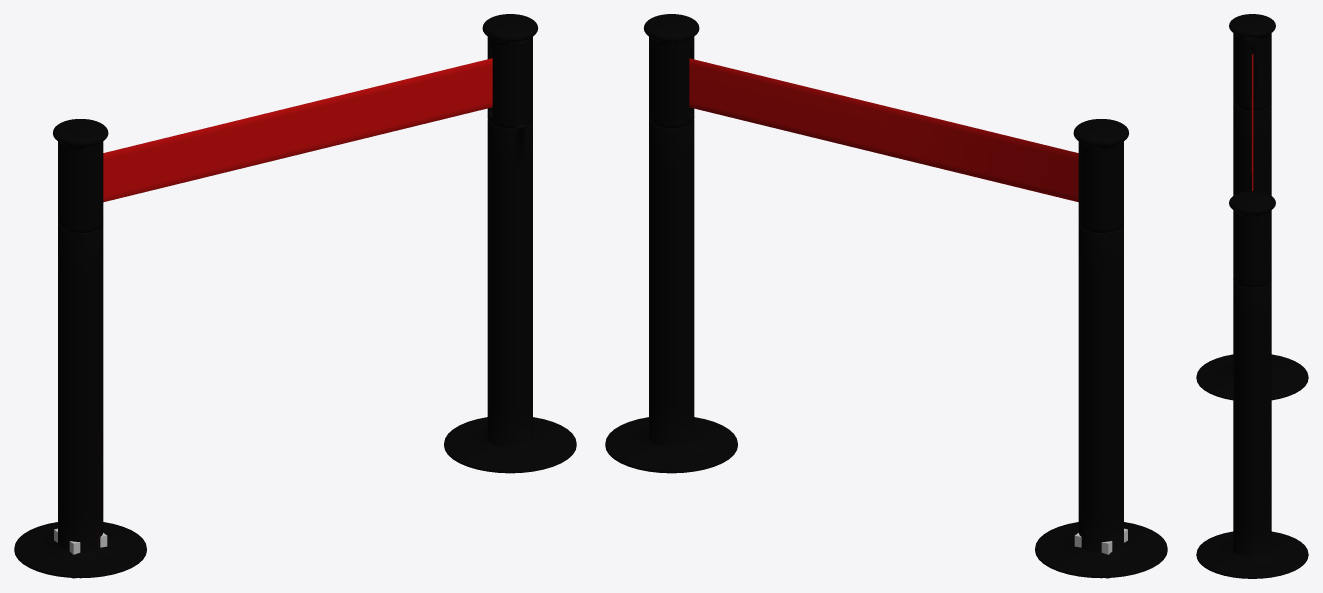
Rendered from railing.obj.
3 renders of one model, left to right at view 1: azimuth 30°, elevation 25°; view 2: azimuth 150°, elevation 25°; view 3: azimuth 270°, elevation 25°, orthographic. The views are drawn at different scales.
Parts seen in each view (by area): view 1: fencing; view 2: fencing; view 3: fencing.
Boxes of the visible parts, <box> form: fencing: <box>14,14,576,578</box>; fencing: <box>605,14,1167,578</box>; fencing: <box>1196,14,1308,578</box>.
Size of the model in its own units: 32.34 by 24.89 by 6.83.
2 materials, 1 textured.
